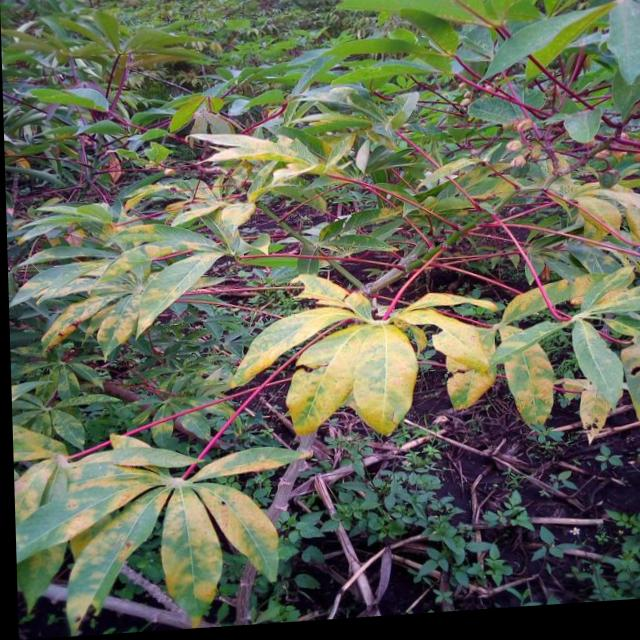Mosaico: (76, 434, 293, 595), (34, 195, 232, 346), (271, 276, 479, 414), (526, 244, 640, 412), (213, 117, 373, 225), (501, 164, 640, 257)
